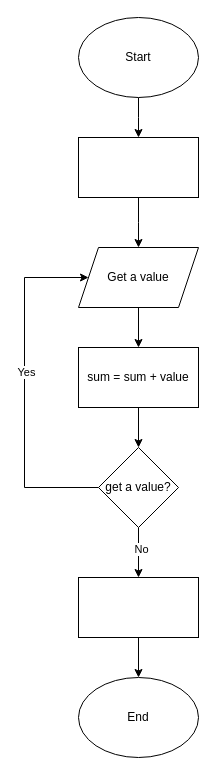
This 216x775 diagram has some shape labels left out. Here are the shapes that lost their labels. From the top down, the centre of each, then its label:
pixel 138 167: sum = 0
pixel 138 607: output the sum
